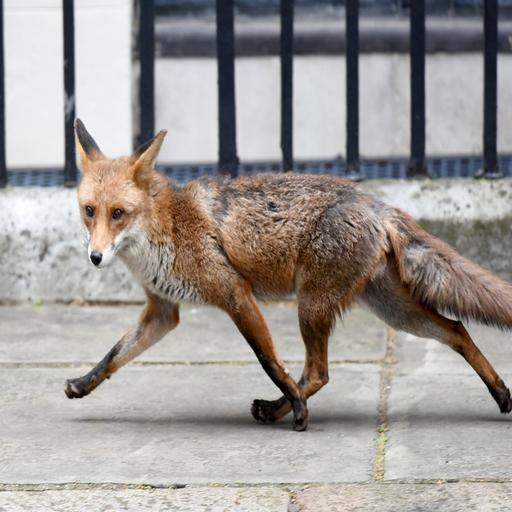Fox: (46, 109, 512, 436)
